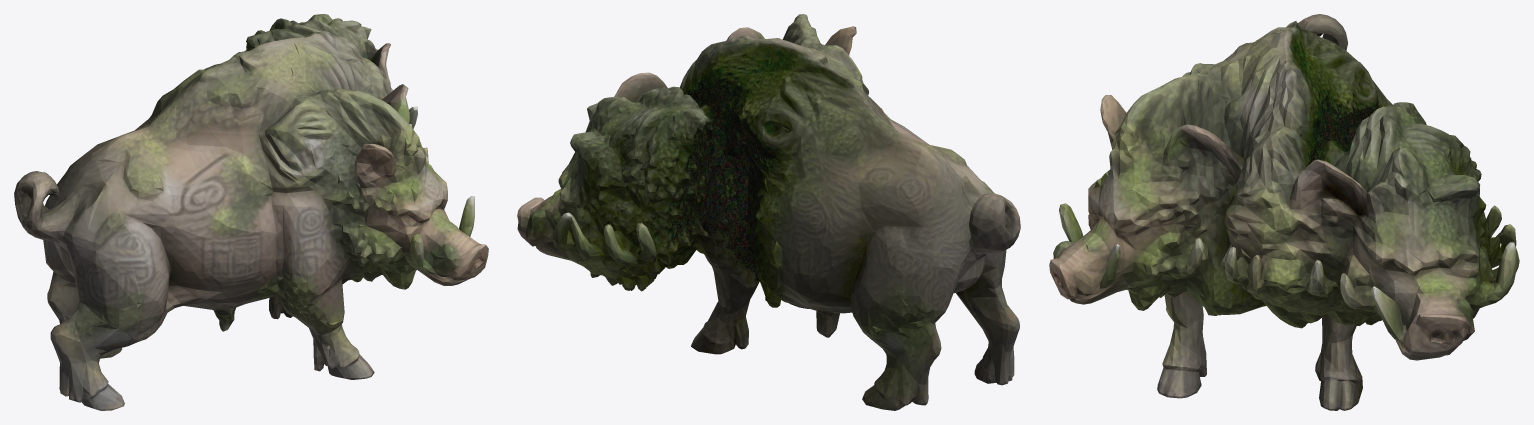
Rendered from mossmaw.glb.
3 renders of one model, left to right at view 1: azimuth 30°, elevation 25°; view 2: azimuth 150°, elevation 25°; view 3: azimuth 270°, elevation 25°, orthographic. The views are drawn at different scales.
Visible parts, largest first — view 1: world; view 2: world; view 3: world.
Part boxes in pixels (left/top/right/bottom): world: left=14, top=14, right=488, bottom=410; world: left=517, top=14, right=1020, bottom=410; world: left=1049, top=14, right=1519, bottom=410.
Size of the model in its own units: 0.9981 by 0.6639 by 0.841.
Materials: 1 (1 with a texture image).
